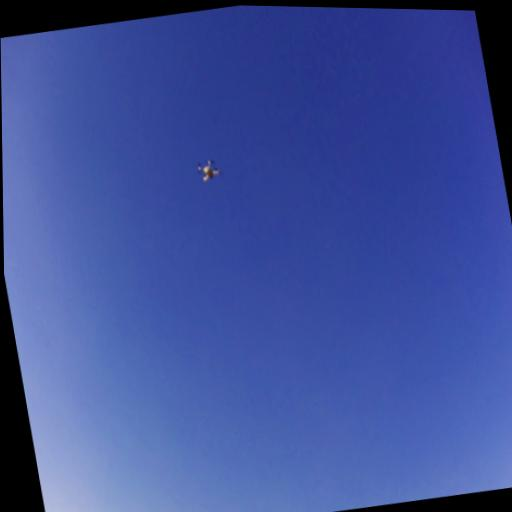drones: (193, 153, 224, 189)
